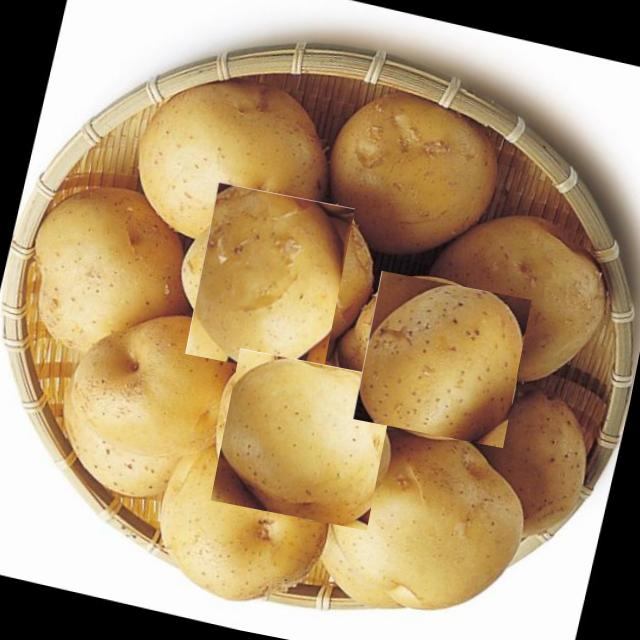potato: (210, 348, 397, 530), (178, 189, 362, 373), (354, 270, 532, 449)
